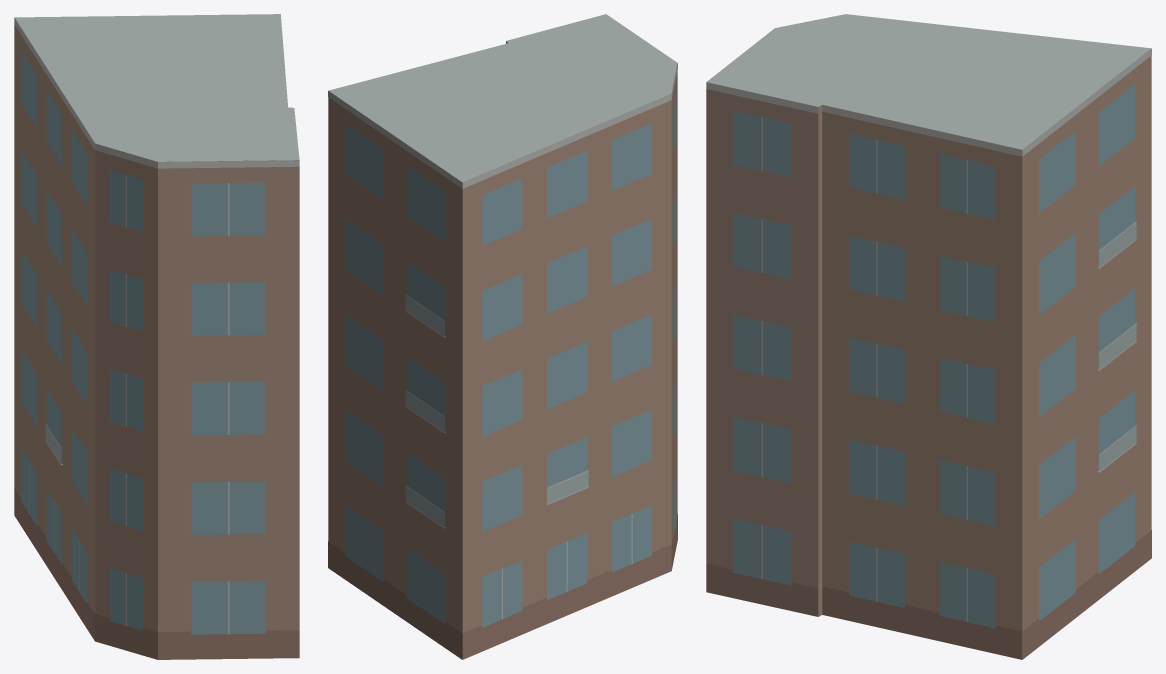
Rendered from survey-upis-32931796.glb.
3 views of the same model, side by side, from view 1: azimuth 30°, elevation 25°; view 2: azimuth 150°, elevation 25°; view 3: azimuth 270°, elevation 25° (orthographic). The views are drawn at different scales.
Visible parts, largest first — view 1: survey-upis-32931796.tmp; view 2: survey-upis-32931796.tmp; view 3: survey-upis-32931796.tmp.
Part boxes in pixels (x1,y1,x2,y2): survey-upis-32931796.tmp: (14, 14, 299, 659); survey-upis-32931796.tmp: (328, 14, 677, 659); survey-upis-32931796.tmp: (706, 14, 1151, 659).
Size of the model in its own units: 10.32 by 18.05 by 14.3.
